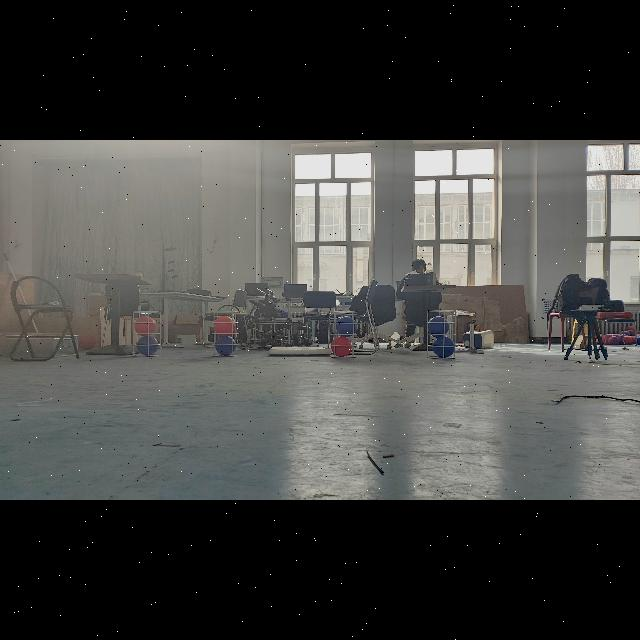B: (432, 336, 456, 358), (213, 335, 235, 355), (137, 336, 159, 356), (428, 316, 448, 338), (336, 317, 356, 337)
R: (214, 314, 236, 336), (135, 316, 157, 336), (331, 338, 352, 357)
S: (424, 310, 460, 360), (128, 310, 164, 360), (208, 310, 242, 360), (327, 309, 358, 361)
